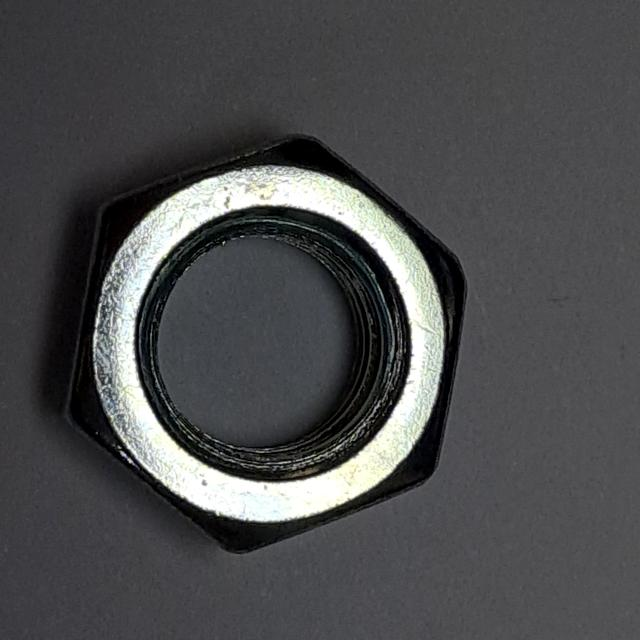Excellent: (55, 117, 482, 570)
